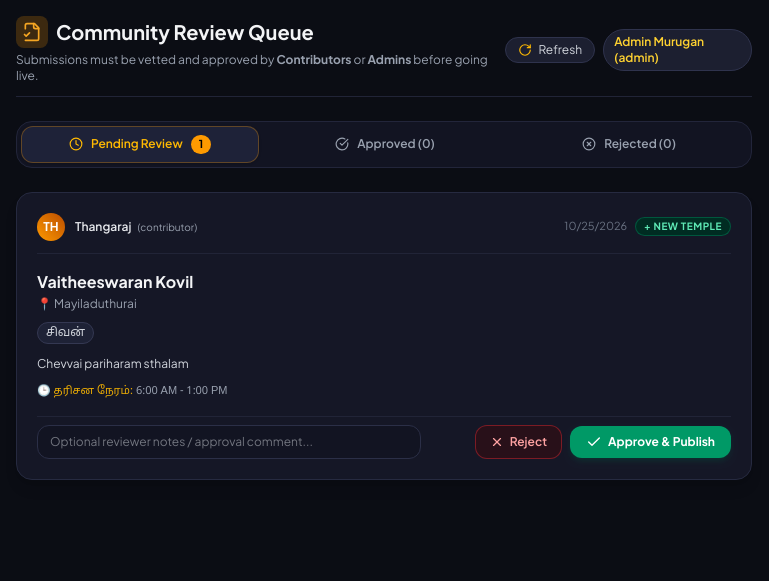
it: Phase 2: ReviewTab Component Boundary & Resilience Tests › triggers approveSubmission when admin clicks Approve & Publish
Click the button "Approve & Publish" at (650, 442), box [570,426,731,458]
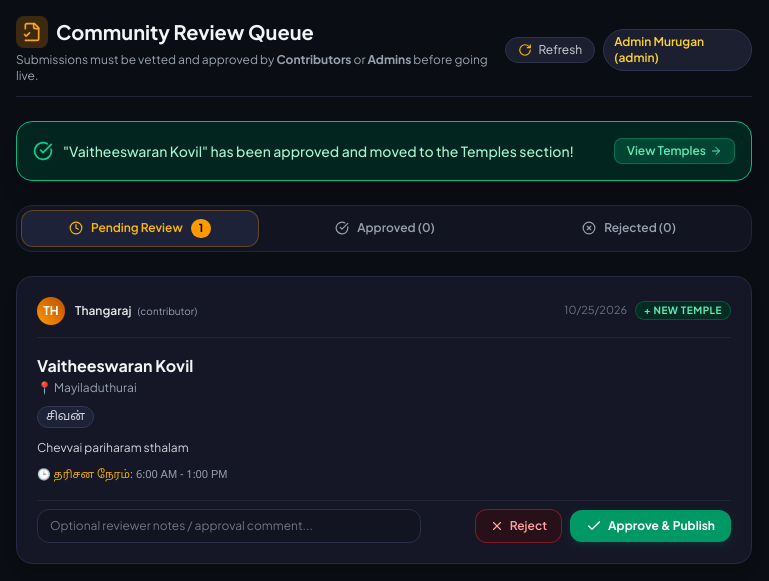
Now the text "\"Vaitheeswaran Kovil\" has been approved" is shown, box [63,142,574,160]
